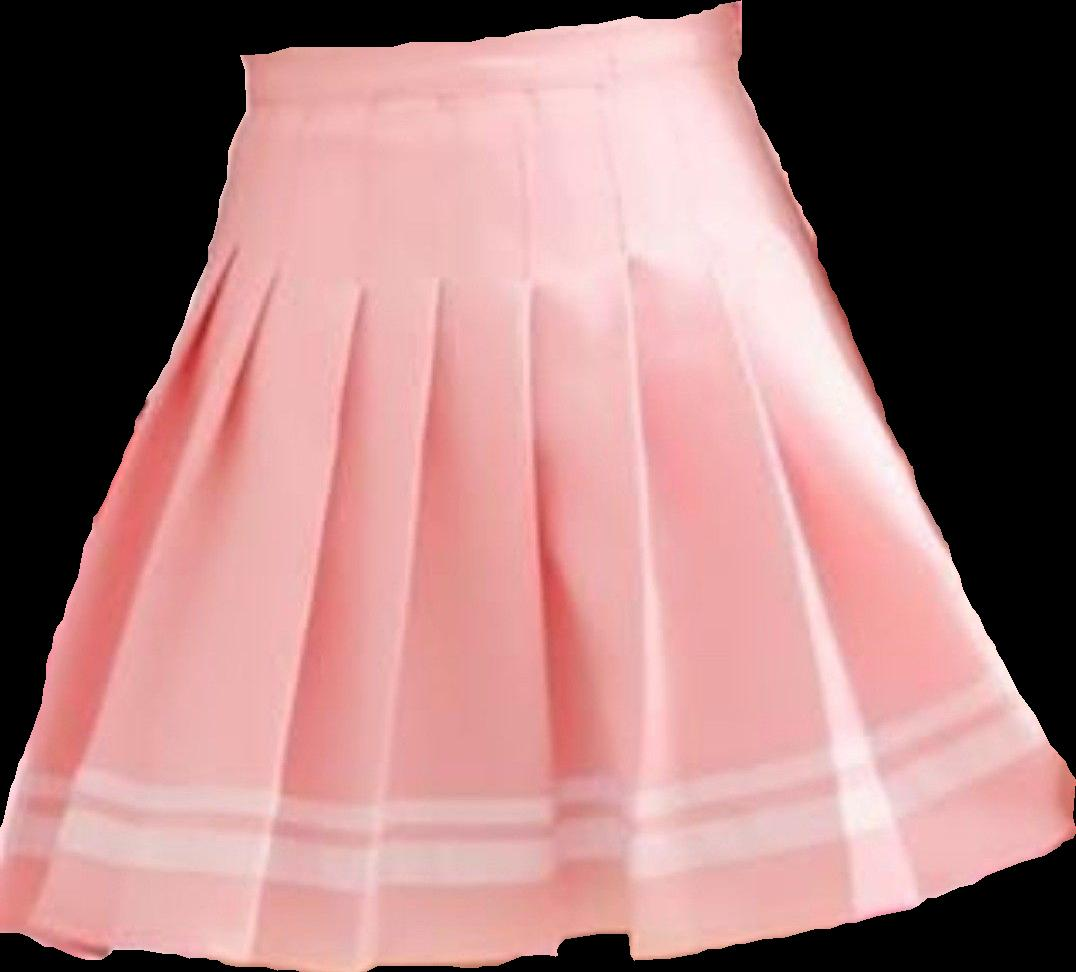Hemline: (0, 826, 1075, 971)
Waistline: (240, 0, 740, 66), (242, 65, 734, 118)
